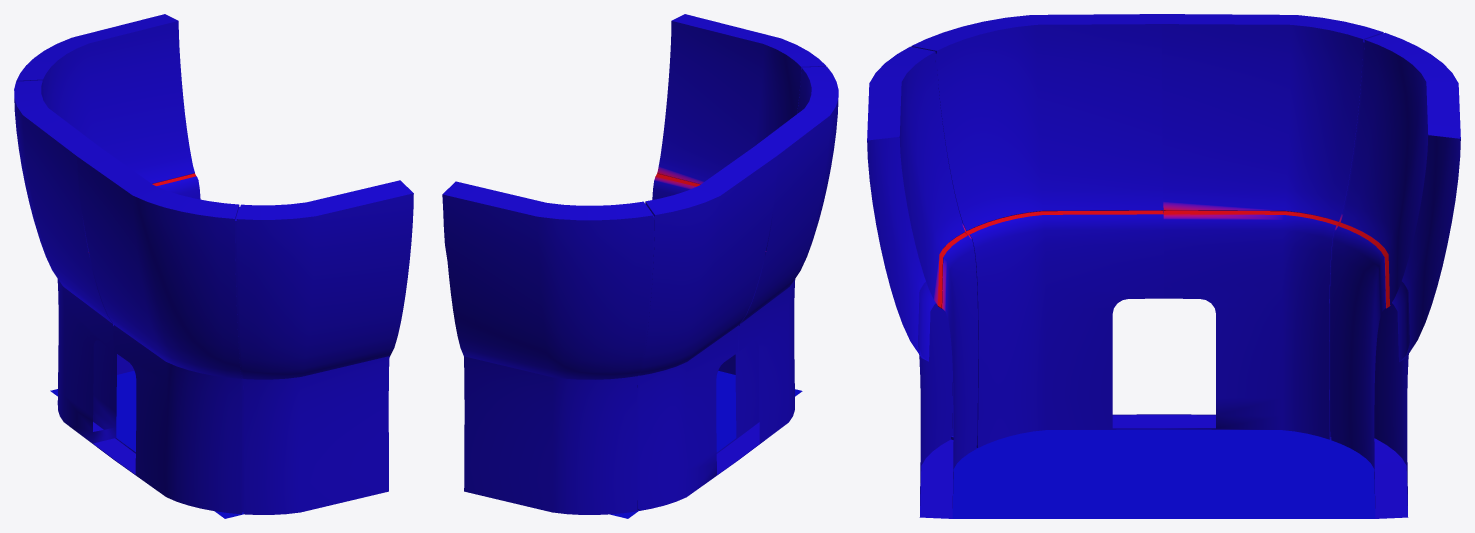
File: MurPorte.fbx
The picture shows the model from 3 angles, left to right: view 1: azimuth 30°, elevation 25°; view 2: azimuth 150°, elevation 25°; view 3: azimuth 270°, elevation 25°; orthographic projection. The views are drawn at different scales.
Parts seen in each view (by area): view 1: Plane.002, Plane.001; view 2: Plane.001, Plane.002; view 3: Plane.001, Plane.002.
Part boxes in pixels (x1=…): Plane.002: x1=76, y1=147, x2=413, y2=518; Plane.001: x1=14, y1=14, x2=200, y2=459; Plane.001: x1=442, y1=146, x2=777, y2=518; Plane.002: x1=652, y1=14, x2=838, y2=459; Plane.001: x1=1161, y1=14, x2=1460, y2=518; Plane.002: x1=867, y1=14, x2=1163, y2=518.
Size of the model in its own units: 283 by 400 by 562.
